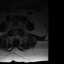CCS_stenosis: (15, 28, 16, 35)
LFS_severe_stenosis: (18, 26, 20, 32)
LLS_normal: (16, 28, 18, 34)
RFS_normal: (11, 27, 13, 32)
RLS_normal: (13, 28, 15, 34)
